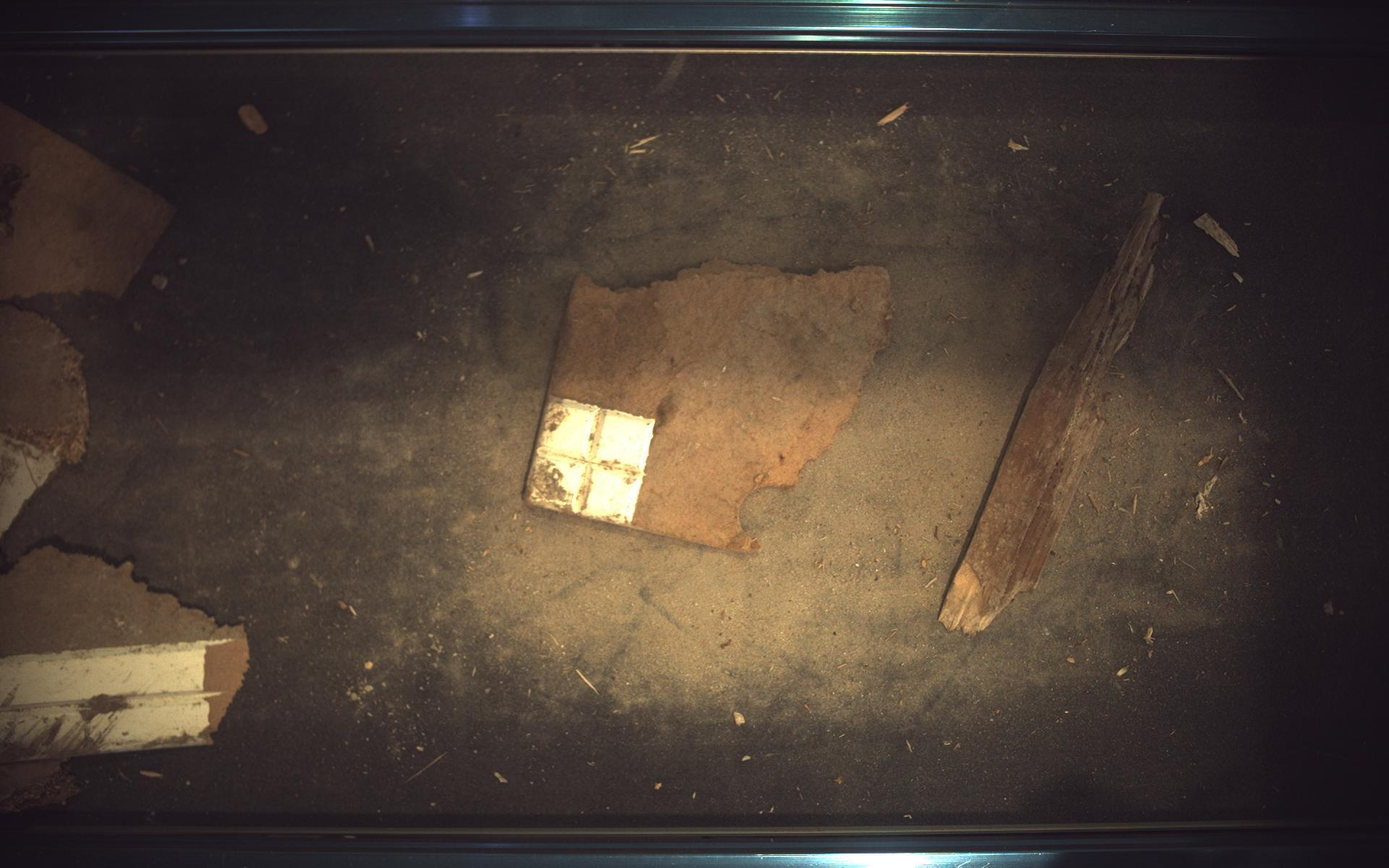wood: (940, 192, 1167, 636)
